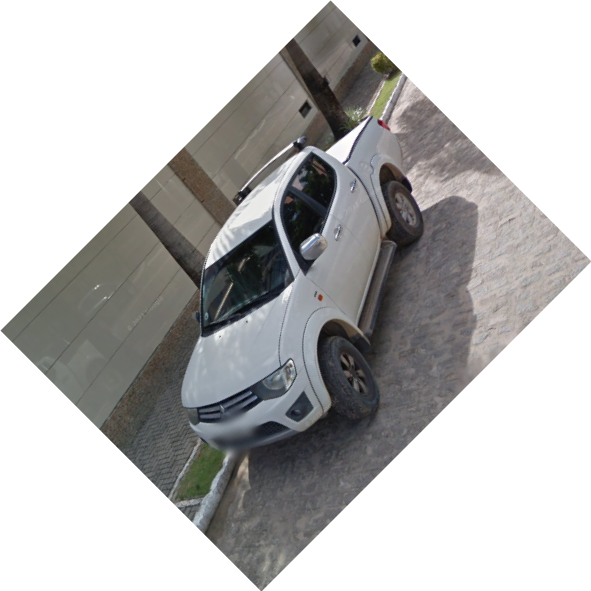car: (176, 107, 427, 453)
